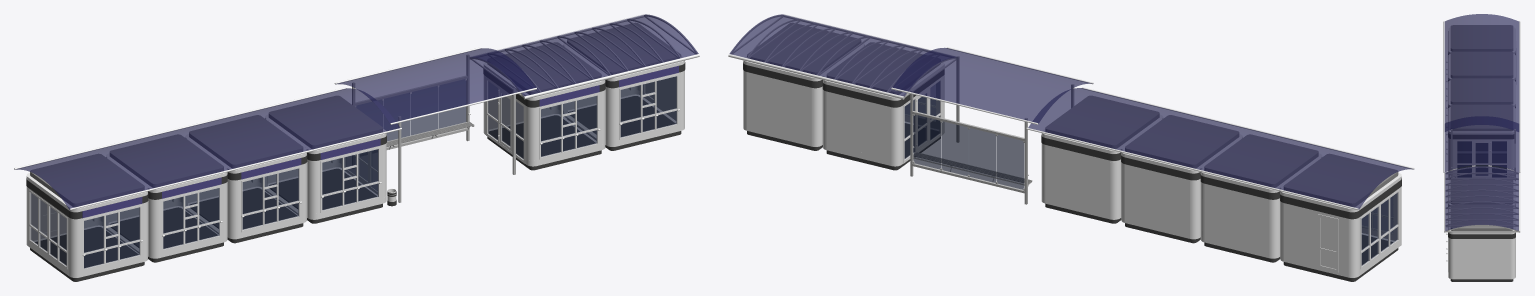
The model's file is house.obj.
3 views of the same model, side by side, from view 1: azimuth 30°, elevation 25°; view 2: azimuth 150°, elevation 25°; view 3: azimuth 270°, elevation 25° (orthographic). The views are drawn at different scales.
Parts seen in each view (by area): view 1: Arc02, Arc18, Arc54, Rectangle108, Rectangle95, Rectangle116, Rectangle35, Rectangle84, Rectangle110, Rectangle150, Rectangle139, Rectangle112 (+41 smaller); view 2: Arc02, Arc18, Arc54, Rectangle135, Rectangle108, Rectangle06, Rectangle95, Rectangle150, Rectangle139, Rectangle138, Rectangle160, Rectangle112 (+33 smaller); view 3: Arc02, Arc18, Arc54, Rectangle108, Rectangle95, Rectangle07, Rectangle150, Rectangle139, Rectangle12, Rectangle112, Rectangle05, Rectangle114 (+31 smaller).
Part boxes in pixels (<box>): Arc02: <box>15,88,399,209</box>; Arc18: <box>472,14,698,96</box>; Arc54: <box>335,48,535,123</box>; Rectangle108: <box>189,23,680,168</box>; Rectangle95: <box>269,42,601,148</box>; Rectangle116: <box>242,76,676,229</box>; Rectangle35: <box>322,96,596,210</box>; Rectangle84: <box>269,115,601,223</box>; Rectangle110: <box>190,96,681,243</box>; Rectangle150: <box>30,154,144,206</box>; Rectangle139: <box>110,134,223,187</box>; Rectangle112: <box>188,71,684,233</box>; Arc02: <box>1028,88,1413,209</box>; Arc18: <box>729,14,955,96</box>; Arc54: <box>893,48,1092,123</box>; Rectangle135: <box>749,74,1187,231</box>; Rectangle108: <box>747,23,1238,168</box>; Rectangle06: <box>829,93,1107,212</box>; Rectangle95: <box>827,42,1159,148</box>; Rectangle150: <box>1284,154,1398,206</box>; Rectangle139: <box>1204,134,1318,187</box>; Rectangle138: <box>1207,186,1266,251</box>; Rectangle160: <box>1286,205,1345,270</box>; Rectangle112: <box>743,71,1200,233</box>; Arc02: <box>1444,14,1519,131</box>; Arc18: <box>1445,166,1518,230</box>; Arc54: <box>1444,116,1519,172</box>; Rectangle108: <box>1451,78,1512,230</box>; Rectangle95: <box>1451,105,1512,203</box>; Rectangle07: <box>1455,240,1508,279</box>; Rectangle150: <box>1451,25,1512,51</box>; Rectangle139: <box>1451,52,1512,77</box>; Rectangle12: <box>1457,141,1506,177</box>; Rectangle112: <box>1448,144,1515,275</box>; Rectangle05: <box>1455,139,1508,177</box>; Rectangle114: <box>1448,80,1515,234</box>.
Bounding box in the file's own units: 24327 × 3597 × 3764.
